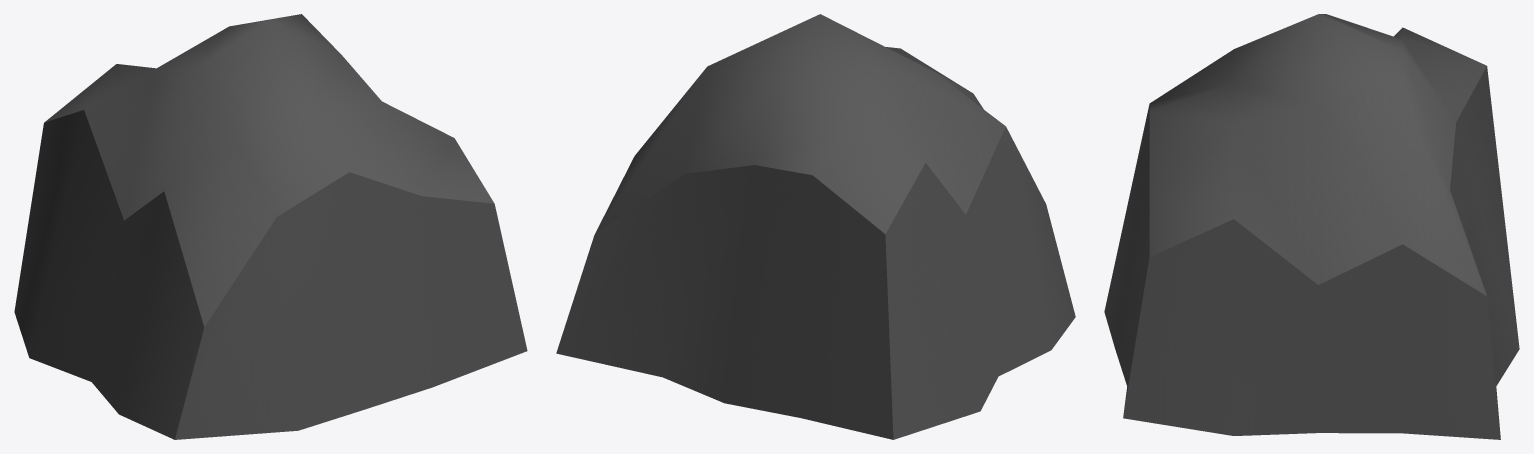
File: Rock3.FBX
The picture shows the model from 3 angles, left to right: view 1: azimuth 30°, elevation 25°; view 2: azimuth 150°, elevation 25°; view 3: azimuth 270°, elevation 25°; orthographic projection. The views are drawn at different scales.
Visible parts, largest first — view 1: Box001; view 2: Box001; view 3: Box001.
Part boxes in pixels (x1,y1,x2,y2): Box001: [14, 14, 527, 439]; Box001: [556, 14, 1075, 439]; Box001: [1104, 14, 1519, 439].
Bounding box in the file's own units: 20.89 × 16.87 × 18.95.
Materials: 1 (1 with a texture image).
